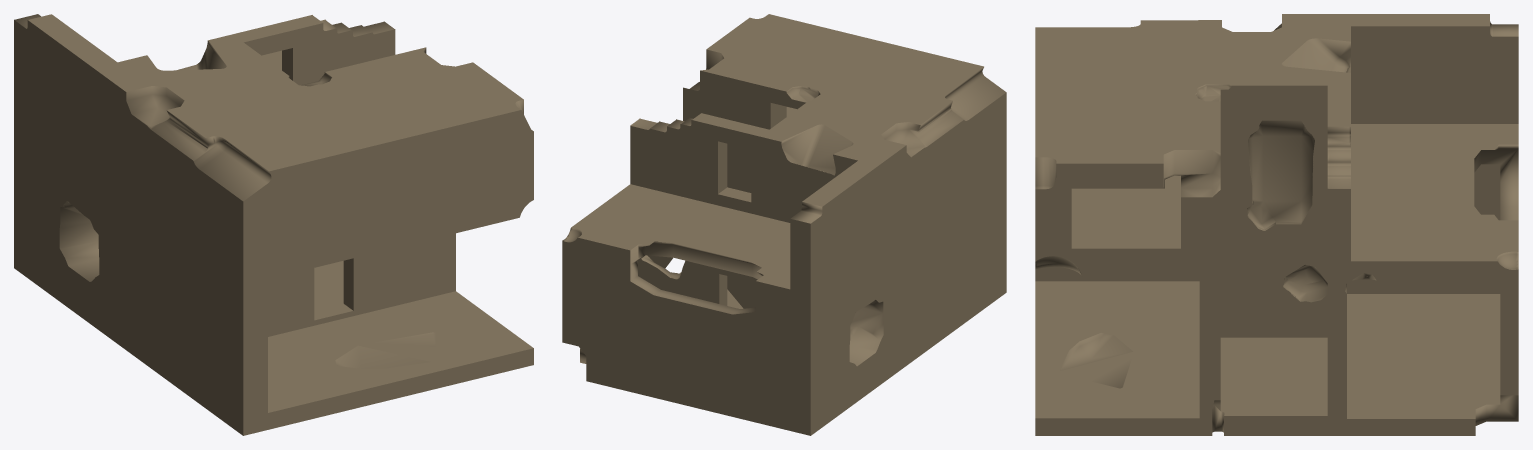
File: Basic building Messed up 1.fbx
3 views of the same model, side by side, from view 1: azimuth 30°, elevation 25°; view 2: azimuth 150°, elevation 25°; view 3: azimuth 270°, elevation 25° (orthographic). The views are drawn at different scales.
Parts seen in each view (by area): view 1: Cube; view 2: Cube; view 3: Cube.
Boxes of the visible parts, x1,y1,x2,y2 form: Cube: (14,14,533,435); Cube: (562,14,1006,435); Cube: (1035,14,1518,435).
Size of the model in its own units: 9256 by 7858 by 12640.
